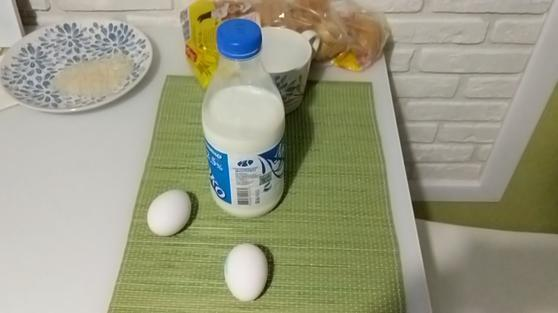egg: (215, 236, 278, 302), (143, 186, 193, 241)
milk: (197, 11, 290, 221)
rice: (49, 44, 143, 101)
